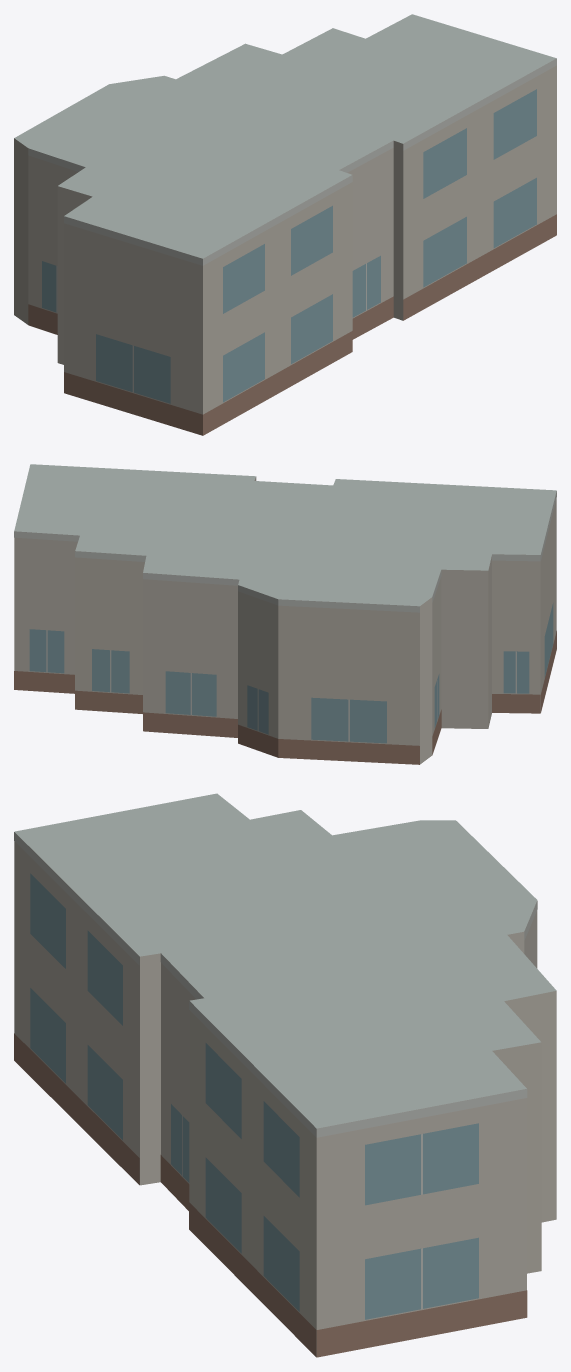
Rendered from survey-upis-32963543.glb.
3 views of the same model, one above another, from view 1: azimuth 30°, elevation 25°; view 2: azimuth 150°, elevation 25°; view 3: azimuth 270°, elevation 25° (orthographic). The views are drawn at different scales.
Parts seen in each view (by area): view 1: survey-upis-32963543.tmp; view 2: survey-upis-32963543.tmp; view 3: survey-upis-32963543.tmp.
Boxes of the visible parts, <box> form: survey-upis-32963543.tmp: <box>14,14,556,435</box>; survey-upis-32963543.tmp: <box>14,464,556,764</box>; survey-upis-32963543.tmp: <box>14,793,556,1357</box>.
Size of the model in its own units: 19.17 by 6.1 by 13.12.
